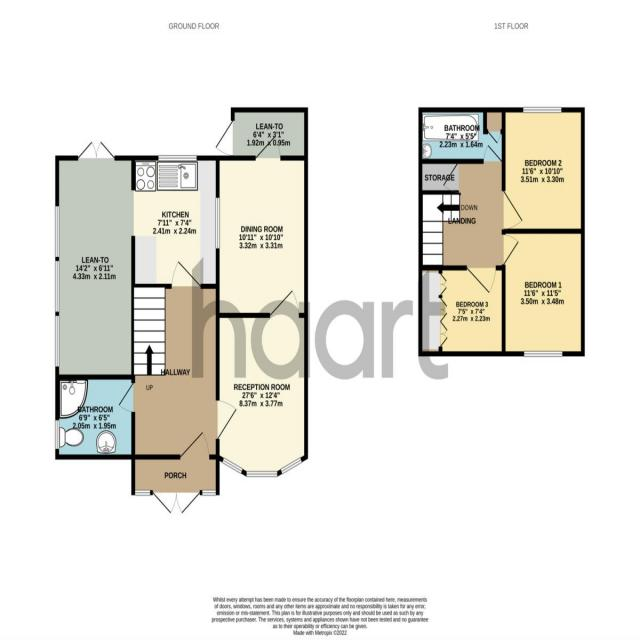DOOR: (178, 429, 211, 460), (170, 258, 203, 289), (267, 287, 300, 318), (215, 398, 238, 442), (464, 265, 498, 294), (501, 189, 525, 230), (213, 116, 235, 158), (253, 133, 282, 161), (501, 232, 521, 267), (117, 378, 136, 414), (481, 143, 504, 164)
DOUBLE DOOR: (74, 139, 116, 160)
ROOM: (55, 134, 136, 378), (216, 284, 308, 477), (216, 131, 308, 319), (131, 155, 223, 289), (502, 228, 585, 356), (502, 107, 585, 234), (418, 265, 506, 357)
WINDOW: (219, 455, 245, 477), (279, 455, 304, 476), (214, 195, 222, 250), (157, 153, 198, 162), (522, 349, 563, 358), (523, 105, 563, 114), (54, 315, 60, 368), (54, 259, 60, 312), (54, 204, 60, 257), (245, 470, 279, 479), (54, 418, 61, 450), (134, 489, 151, 497), (202, 488, 216, 497)
